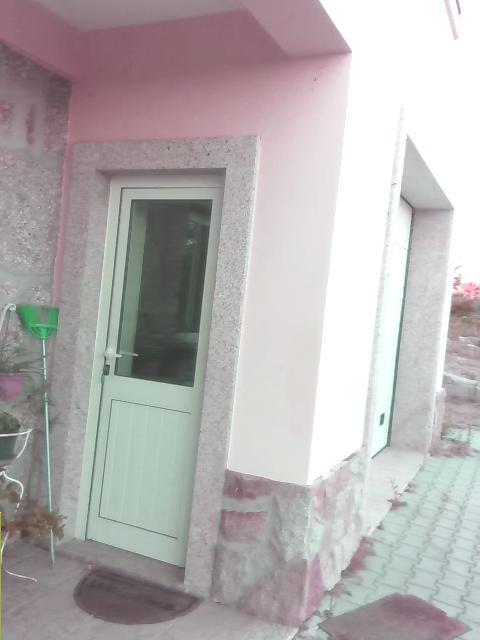closed_door: (75, 166, 228, 573)
